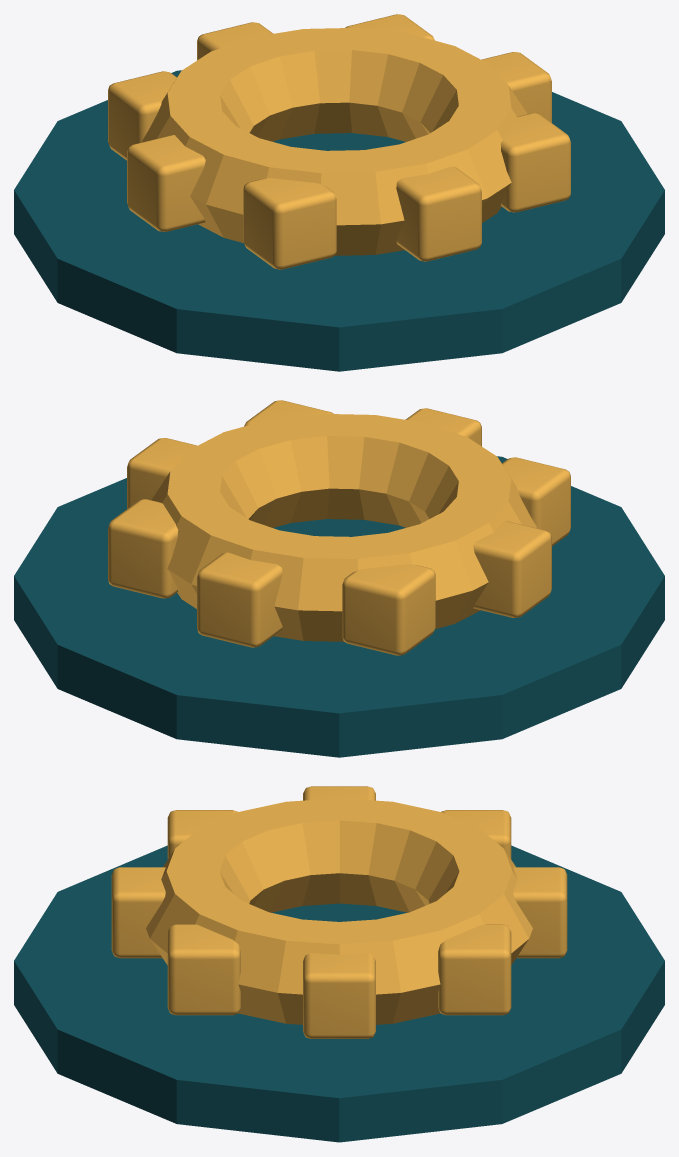
The model's file is Icon_EngineFault.fbx.
The picture shows the model from 3 angles, top to bottom: view 1: azimuth 30°, elevation 25°; view 2: azimuth 150°, elevation 25°; view 3: azimuth 270°, elevation 25°; orthographic projection.
Parts seen in each view (by area): view 1: Icon_EngineFault_Static; view 2: Icon_EngineFault_Static; view 3: Icon_EngineFault_Static.
Boxes of the visible parts, x1=… form: Icon_EngineFault_Static: x1=14, y1=14, x2=664, y2=371; Icon_EngineFault_Static: x1=14, y1=400, x2=664, y2=757; Icon_EngineFault_Static: x1=14, y1=786, x2=664, y2=1142.
Size of the model in its own units: 1.6 by 0.3626 by 1.6.
1 material, 1 textured.
